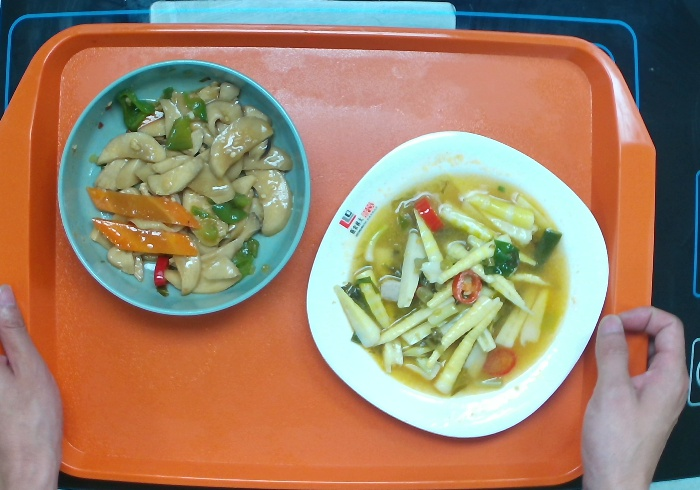ZNLD-Qing_Hua_Yuan_Wan: (56, 54, 313, 316)
ZNLD-Yuan_Jiao_Pan: (304, 126, 612, 440)
